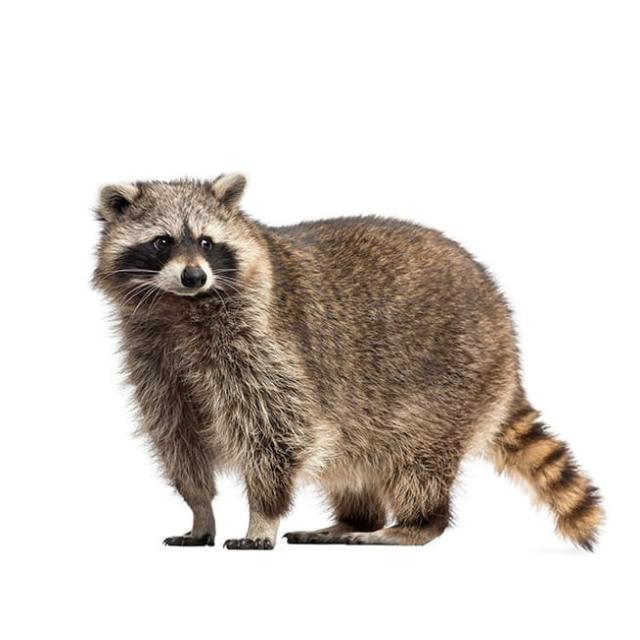Raccoon: (82, 162, 610, 565)
